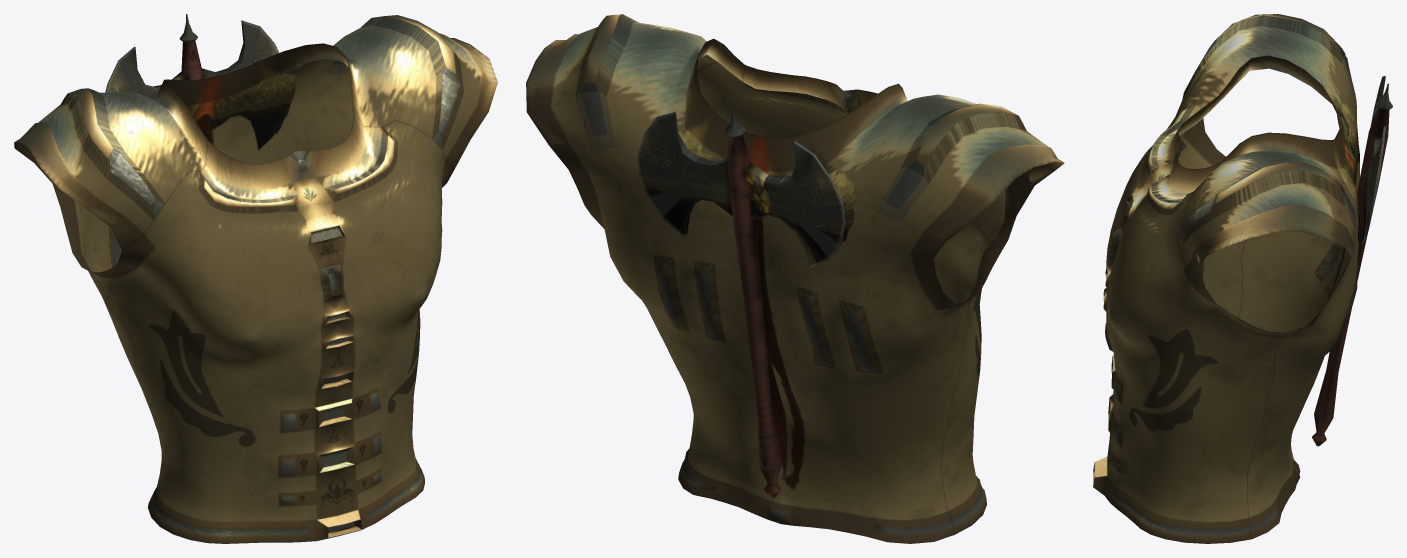
Rendered from gold_armor.glb.
3 views of the same model, side by side, from view 1: azimuth 30°, elevation 25°; view 2: azimuth 150°, elevation 25°; view 3: azimuth 270°, elevation 25° (orthographic). The views are drawn at different scales.
Visible parts, largest first — view 1: Object_2; view 2: Object_2; view 3: Object_2.
Boxes of the visible parts, x1,y1,x2,y2 form: Object_2: (14, 14, 497, 543); Object_2: (526, 14, 1064, 543); Object_2: (1093, 14, 1392, 543).
Bounding box in the file's own units: 62.17 × 55.06 × 37.43.
Materials: 1 (1 with a texture image).
